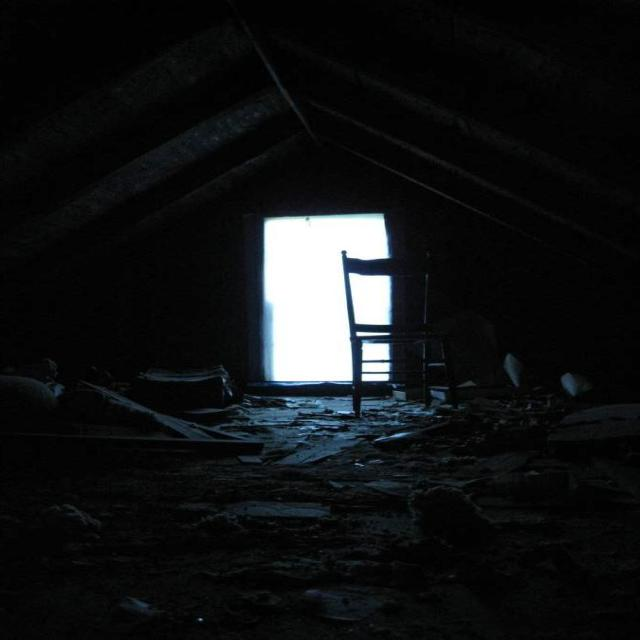chair: (317, 232, 497, 433)
